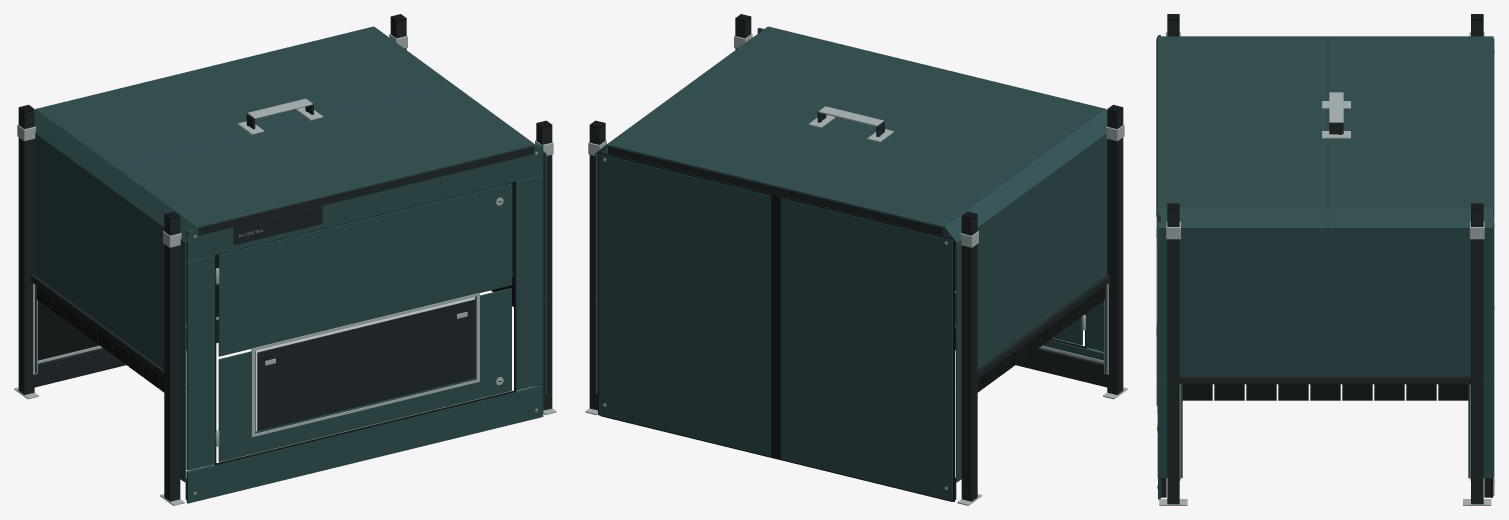
File: aerosense_spectral_scanner.glb
3 views of the same model, side by side, from view 1: azimuth 30°, elevation 25°; view 2: azimuth 150°, elevation 25°; view 3: azimuth 270°, elevation 25° (orthographic). The views are drawn at different scales.
Parts seen in each view (by area): view 1: Cover_Detachable__deep_teal_panel, Static_Assembly__deep_teal_panel, Door_Service_Pivot__deep_teal_panel, Observation_Blackout_Shutter__graphite_frame, Static_Assembly__graphite_frame, Static_Assembly__epdm_gasket, Cover_Detachable__graphite_frame, Static_Assembly__satin_stainless, Observation_Window__satin_stainless, Cover_Detachable__epdm_gasket, Label_EquipmentID__graphite_frame, Observation_Window__clear_glass; view 2: Static_Assembly__deep_teal_panel, Cover_Detachable__deep_teal_panel, Static_Assembly__graphite_frame, Static_Assembly__epdm_gasket, Static_Assembly__satin_stainless; view 3: Static_Assembly__deep_teal_panel, Cover_Detachable__deep_teal_panel, Static_Assembly__graphite_frame, Static_Assembly__epdm_gasket, Static_Assembly__satin_stainless.
Part boxes in pixels (bbox=[...]): Cover_Detachable__deep_teal_panel: bbox=[103, 84, 546, 503]; Static_Assembly__deep_teal_panel: bbox=[34, 26, 546, 482]; Door_Service_Pivot__deep_teal_panel: bbox=[218, 183, 511, 461]; Observation_Blackout_Shutter__graphite_frame: bbox=[257, 299, 474, 430]; Static_Assembly__graphite_frame: bbox=[18, 19, 552, 501]; Static_Assembly__epdm_gasket: bbox=[18, 14, 552, 392]; Cover_Detachable__graphite_frame: bbox=[198, 146, 533, 235]; Static_Assembly__satin_stainless: bbox=[14, 34, 556, 505]; Observation_Window__satin_stainless: bbox=[251, 293, 479, 437]; Cover_Detachable__epdm_gasket: bbox=[195, 153, 537, 494]; Label_EquipmentID__graphite_frame: bbox=[233, 205, 322, 245]; Observation_Window__clear_glass: bbox=[255, 297, 474, 430]; Static_Assembly__deep_teal_panel: bbox=[595, 86, 1107, 500]; Cover_Detachable__deep_teal_panel: bbox=[686, 26, 1107, 360]; Static_Assembly__graphite_frame: bbox=[589, 19, 1123, 501]; Static_Assembly__epdm_gasket: bbox=[589, 14, 1123, 501]; Static_Assembly__satin_stainless: bbox=[585, 34, 1127, 505]; Static_Assembly__deep_teal_panel: bbox=[1157, 36, 1494, 496]; Cover_Detachable__deep_teal_panel: bbox=[1157, 35, 1327, 499]; Static_Assembly__graphite_frame: bbox=[1161, 21, 1494, 504]; Static_Assembly__epdm_gasket: bbox=[1167, 14, 1492, 497]; Static_Assembly__satin_stainless: bbox=[1159, 32, 1494, 505].
Size of the model in its own units: 0.929 by 0.67 by 0.6797.
